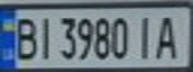0: (109, 14, 133, 61)
3: (54, 12, 78, 61)
8: (90, 14, 115, 61)
9: (75, 14, 93, 61)
A: (151, 11, 184, 61)
B: (9, 12, 39, 61)
I: (133, 11, 157, 61), (33, 12, 57, 61)
